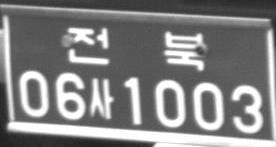0: (153, 78, 186, 128), (192, 80, 224, 130), (18, 69, 49, 118)
1: (121, 76, 147, 124)
3: (231, 84, 265, 134)
6: (55, 70, 87, 120)
사: (89, 78, 114, 119)
전북_D: (68, 27, 205, 71)
